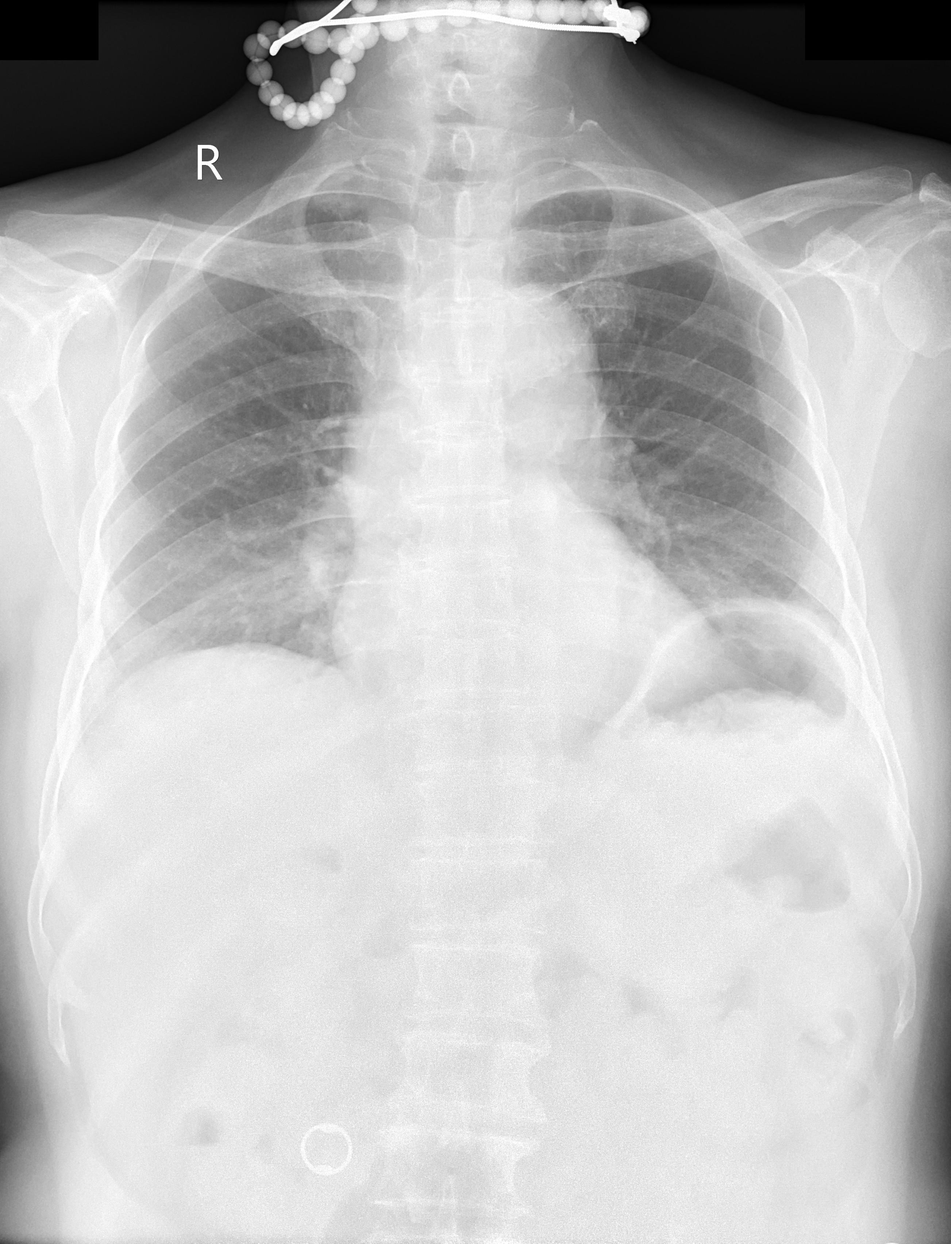Aortic enlargement: (453, 280, 600, 439)
Pleural thickening: (294, 192, 399, 219)
